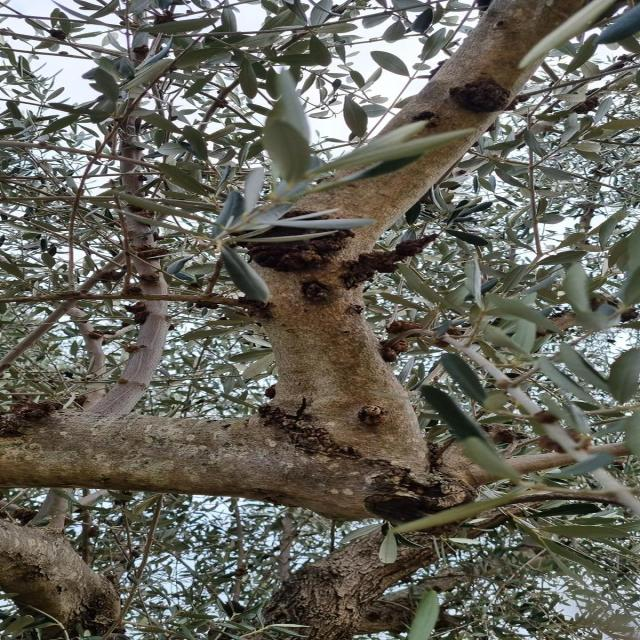Tuberculosis: (340, 234, 438, 290), (237, 229, 354, 272), (450, 78, 529, 114), (0, 398, 61, 438), (380, 320, 431, 362), (300, 278, 336, 304), (128, 244, 169, 262), (123, 301, 149, 326), (260, 226, 307, 239), (88, 328, 122, 343), (98, 268, 124, 284), (140, 269, 164, 284), (195, 301, 225, 310), (124, 284, 142, 297)
